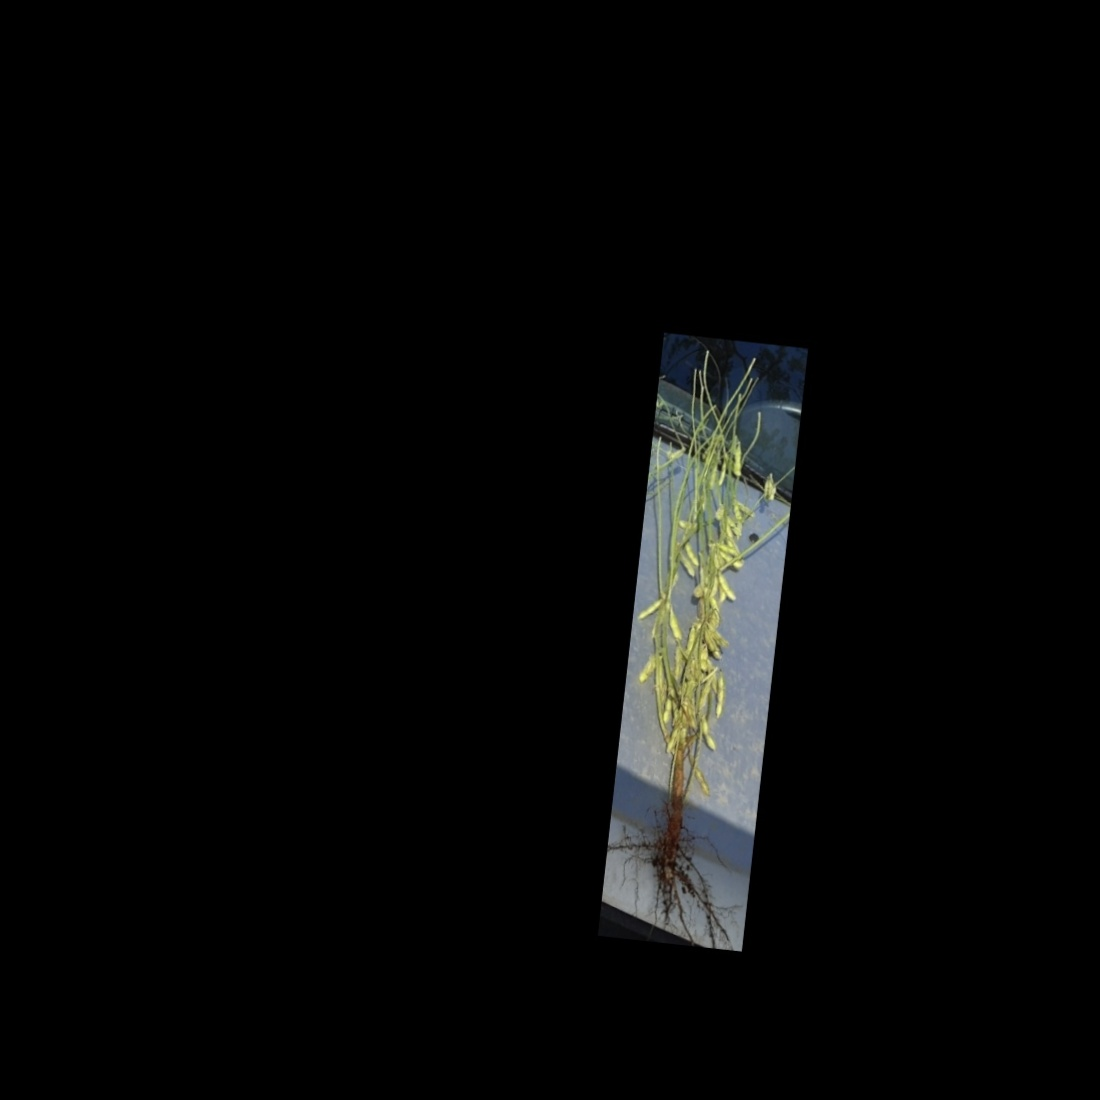pod: (663, 602, 687, 645), (697, 719, 724, 757), (710, 669, 728, 723), (689, 765, 715, 799), (713, 572, 740, 603), (730, 444, 747, 479), (682, 541, 702, 568)
soy: (603, 380, 798, 925)
